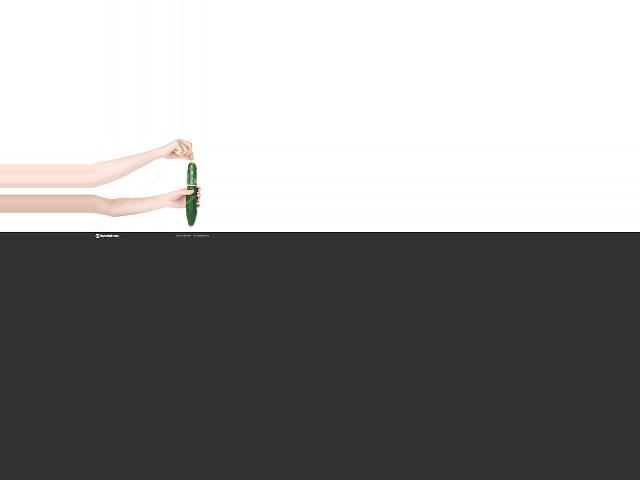cucumber: (187, 162, 197, 228)
